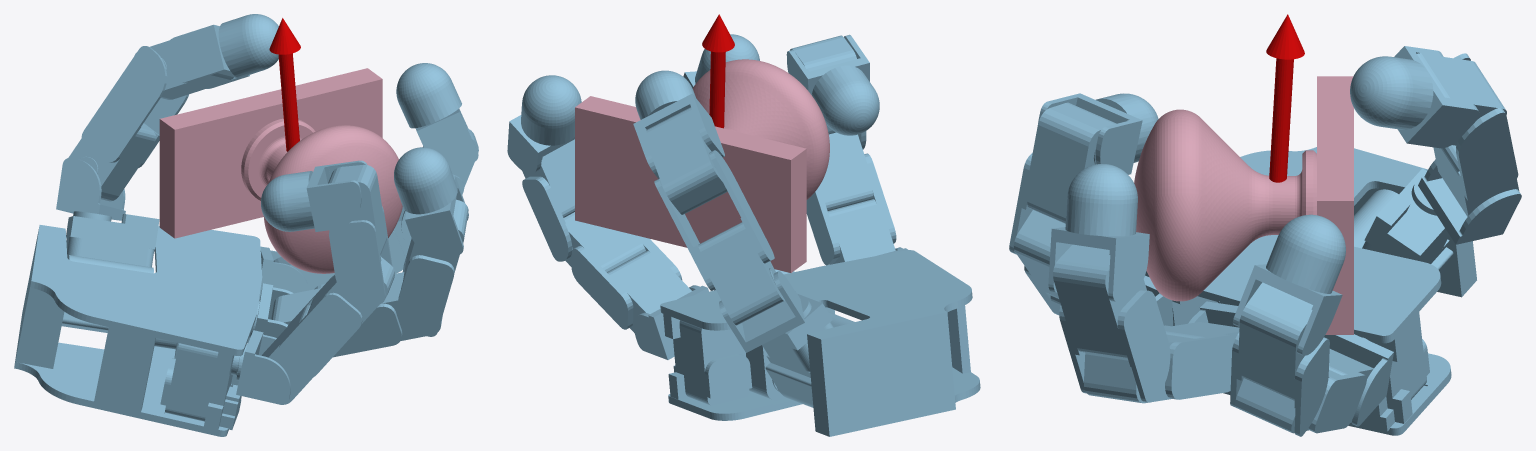
The picture shows the model from 3 angles, left to right: view 1: azimuth 30°, elevation 25°; view 2: azimuth 150°, elevation 25°; view 3: azimuth 270°, elevation 25°; orthographic projection. The views are drawn at different scales.
Visible parts, largest first — view 1: world, door_knob.stl; view 2: world, door_knob.stl; view 3: world, door_knob.stl.
Boxes of the visible parts, <box> form: world: <box>14,14,478,436</box>; door_knob.stl: <box>159,68,402,273</box>; world: <box>507,14,980,436</box>; door_knob.stl: <box>575,59,829,272</box>; world: <box>1009,14,1521,436</box>; door_knob.stl: <box>1134,76,1353,334</box>.
Bounding box in the file's own units: 0.2144 × 0.1572 × 0.1736.
